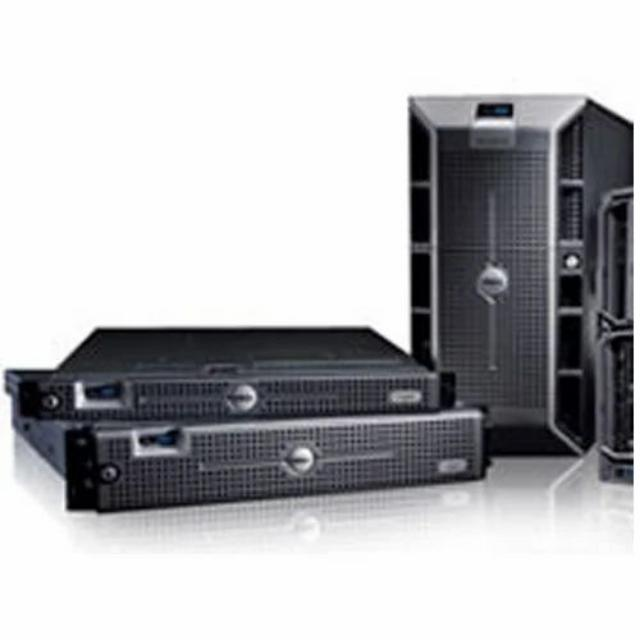Server: (408, 91, 640, 475), (6, 316, 458, 426)
